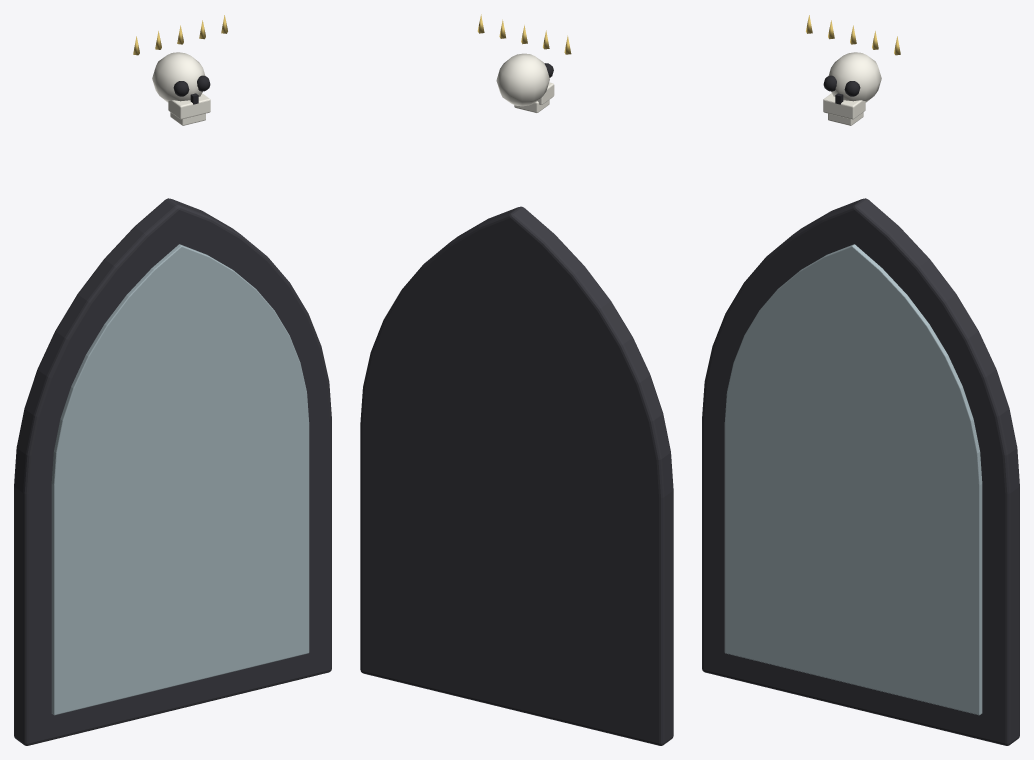
File: mirror_skull_crowned.glb
3 renders of one model, left to right at view 1: azimuth 30°, elevation 25°; view 2: azimuth 150°, elevation 25°; view 3: azimuth 330°, elevation 25°, orthographic.
Parts seen in each view (by area): view 1: GD_mirror_skull_crowned__m1, GD_mirror_skull_crowned__m0, GD_mirror_skull_crowned__m3; view 2: GD_mirror_skull_crowned__m0, GD_mirror_skull_crowned__m3; view 3: GD_mirror_skull_crowned__m1, GD_mirror_skull_crowned__m0, GD_mirror_skull_crowned__m3.
Boxes of the visible parts, x1,y1,x2,y2 form: GD_mirror_skull_crowned__m1: [51, 244, 309, 715]; GD_mirror_skull_crowned__m0: [14, 198, 331, 745]; GD_mirror_skull_crowned__m3: [152, 52, 210, 125]; GD_mirror_skull_crowned__m0: [360, 206, 673, 745]; GD_mirror_skull_crowned__m3: [496, 53, 554, 112]; GD_mirror_skull_crowned__m1: [724, 244, 982, 715]; GD_mirror_skull_crowned__m0: [702, 198, 1019, 745]; GD_mirror_skull_crowned__m3: [823, 52, 881, 125].
Size of the model in its own units: 0.7 by 1.49 by 0.1242.
